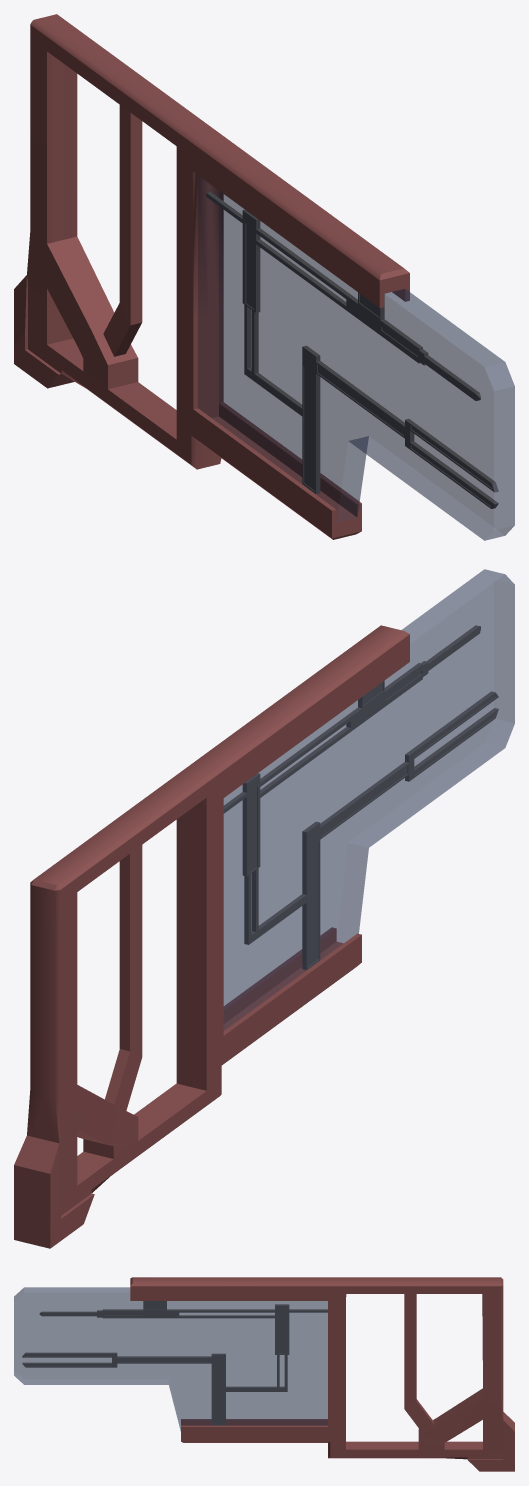
The model's file is keycard.fbx.
The picture shows the model from 3 angles, top to bottom: view 1: azimuth 30°, elevation 25°; view 2: azimuth 150°, elevation 25°; view 3: azimuth 270°, elevation 25°; orthographic projection. The views are drawn at different scales.
Visible parts, largest first — view 1: frame, glass; view 2: frame, glass; view 3: glass, frame.
Part boxes in pixels (x1=…): frame: x1=14, y1=14, x2=498, y2=539; glass: x1=198, y1=175, x2=514, y2=540; frame: x1=14, y1=625, x2=498, y2=1248; glass: x1=223, y1=569, x2=514, y2=1030; glass: x1=14, y1=1287, x2=327, y2=1430; frame: x1=22, y1=1277, x2=514, y2=1471.
Size of the model in its own units: 0.1438 by 1.33 by 3.24.
